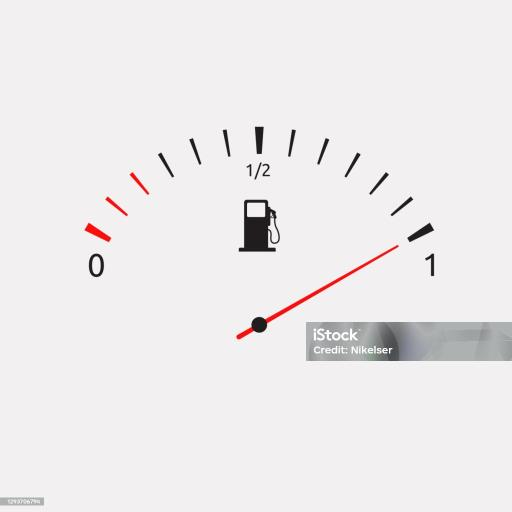empty: (80, 251, 112, 280)
fuel_icon: (238, 198, 286, 252)
full: (420, 250, 448, 278)
guage_area: (74, 120, 456, 358)
needle_center: (242, 311, 280, 341)
needle_tip: (378, 239, 406, 265)
